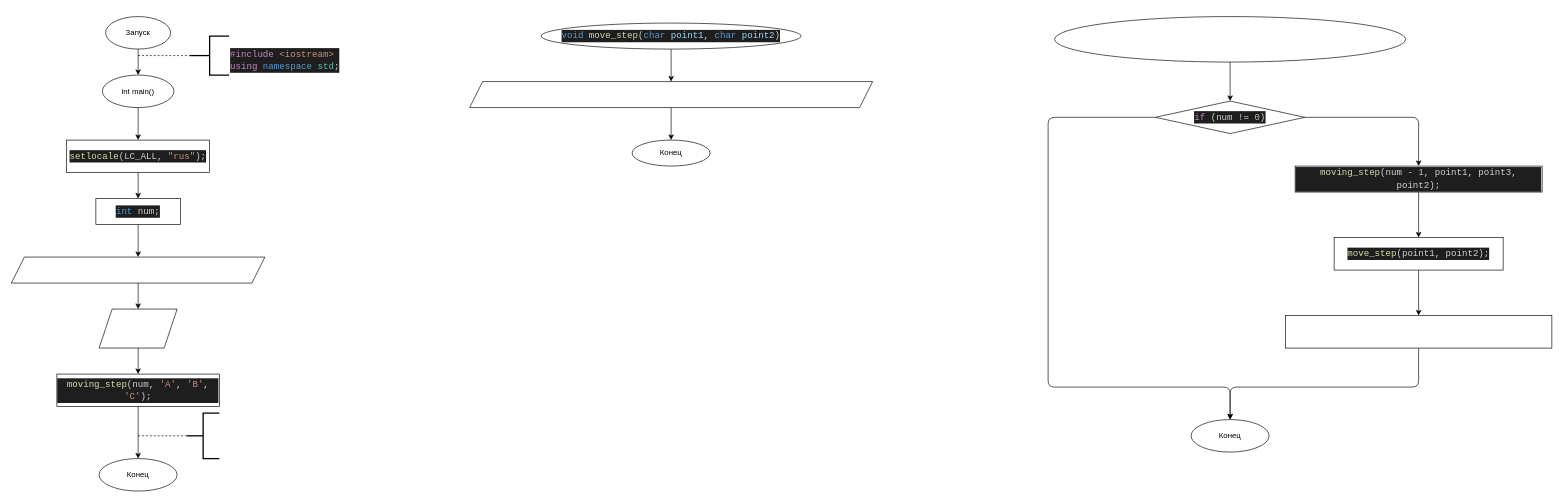
Some shapes in this 1563 by 502 pixel diagram are drawn without their labels. The shapes that lost their labels are listed below. From the top down, each one's centre as x and y in pixels, then its label:
point 1230,39: void moving_step ( int num , char point1 , char point2 , char point3 )
point 671,94: cout << "со стержня " << point1 << " на стержень " << point2 << endl;
point 138,269: cout << "Введите количество колец: " << endl;
point 137,328: cin >> num;
point 1418,331: moving_step (num - 1 , point3, point2, point1);
point 203,435: return 0 ;
